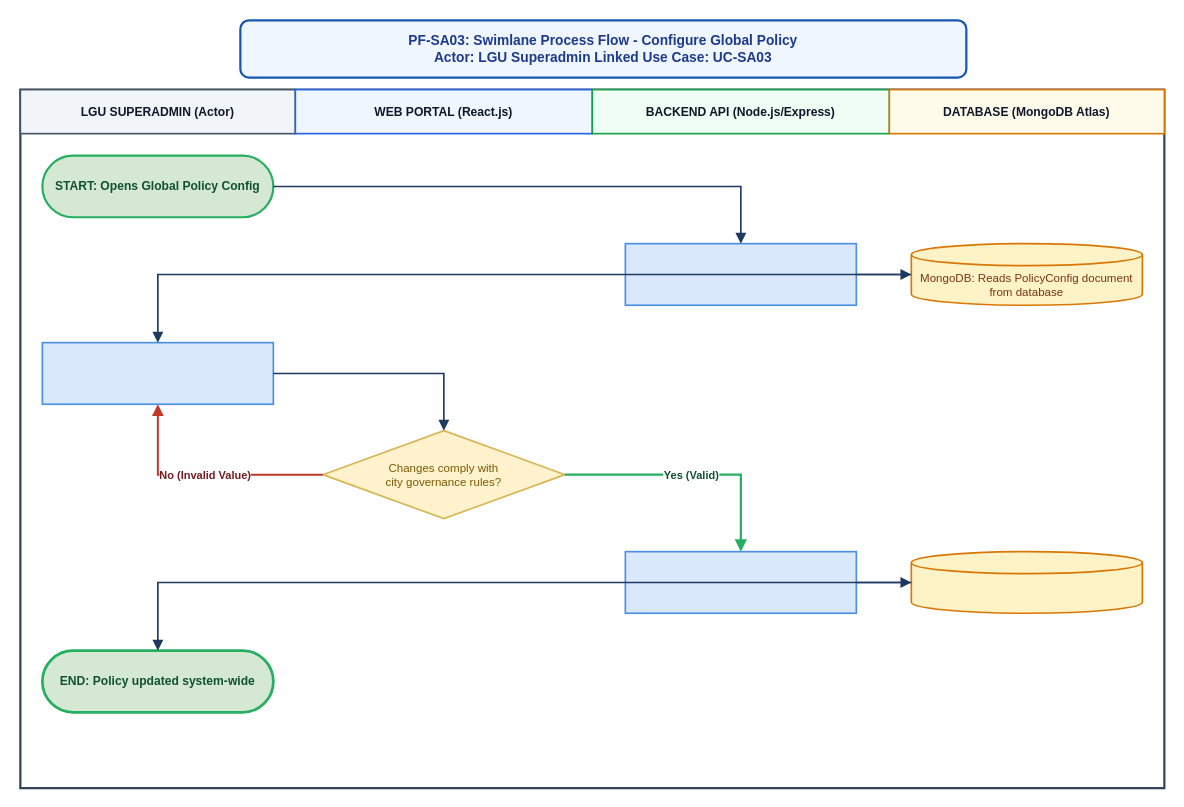
Some shapes in this 1184 by 807 pixel diagram are drawn without their labels. Here are the shapes that lost their labels. From the top down, the centre of each, then its label:
pixel 740 274: GET /api/policy to retrieve current global thresholds and formulas
pixel 157 373: Updates parameters (CFW Wage Rate ₱500, QR Expiry Window, Buffer)
pixel 740 582: PUT /api/policy with updated PolicyConfig payload
pixel 1026 582: MongoDB: Updates PolicyConfig; Logs event in System AuditLog
